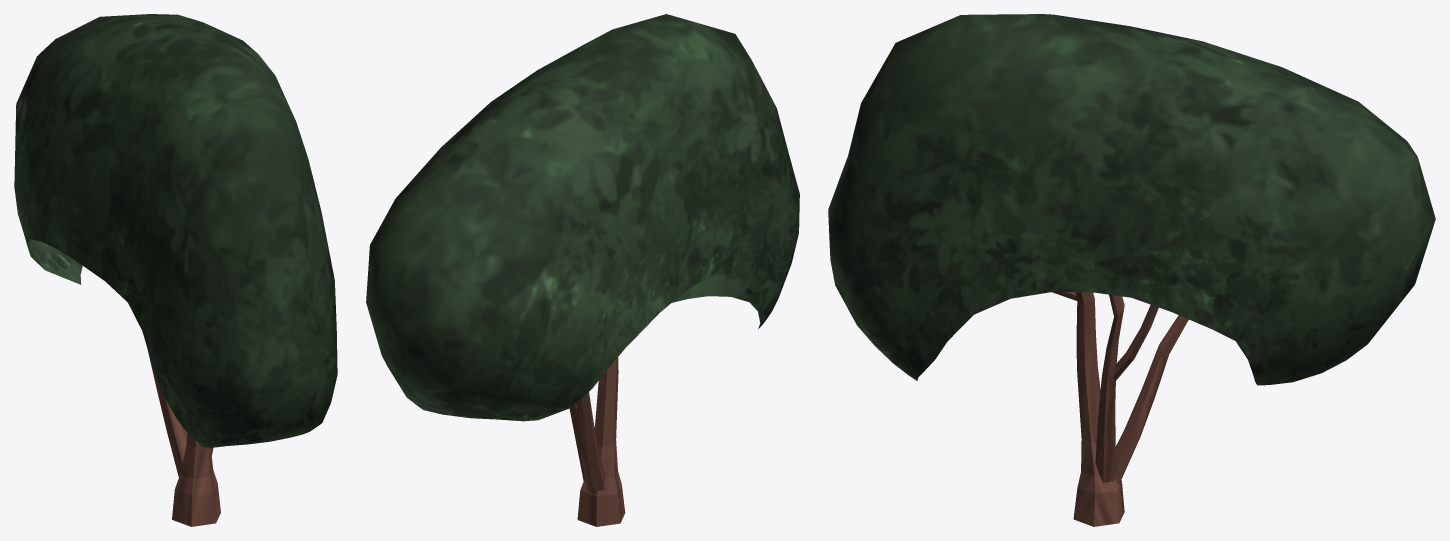
File: ArvoreMediaMataAtlantica.fbx
The picture shows the model from 3 angles, left to right: view 1: azimuth 30°, elevation 25°; view 2: azimuth 150°, elevation 25°; view 3: azimuth 270°, elevation 25°; orthographic projection. The views are drawn at different scales.
Parts seen in each view (by area): view 1: ArvoreMediaMataAtlantica; view 2: ArvoreMediaMataAtlantica; view 3: ArvoreMediaMataAtlantica.
Part boxes in pixels (<box>): ArvoreMediaMataAtlantica: <box>14,14,337,526</box>; ArvoreMediaMataAtlantica: <box>366,14,799,526</box>; ArvoreMediaMataAtlantica: <box>828,14,1435,526</box>.
Bounding box in the file's own units: 104 × 201 × 224.
